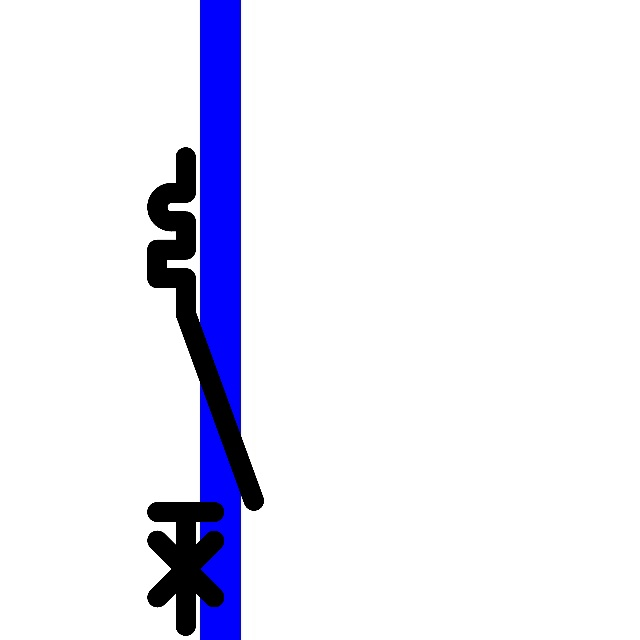interruptor_termomagnetico: (145, 145, 266, 638)
